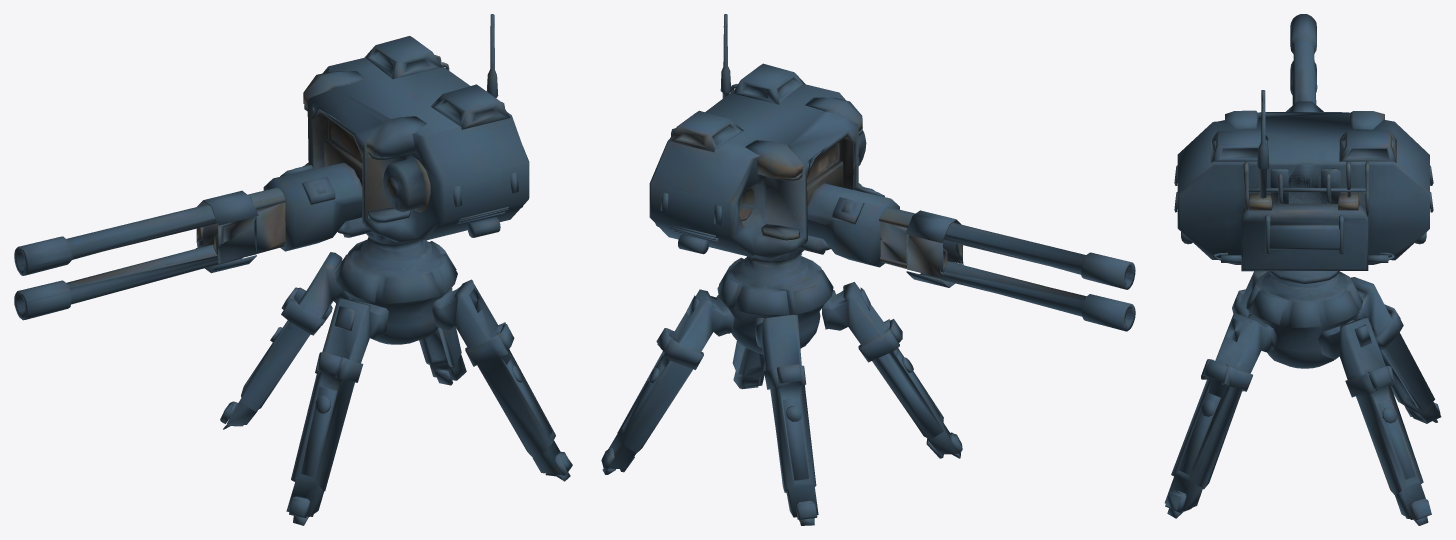
Rendered from t_pulse_1.glb.
3 views of the same model, side by side, from view 1: azimuth 30°, elevation 25°; view 2: azimuth 150°, elevation 25°; view 3: azimuth 270°, elevation 25° (orthographic). The views are drawn at different scales.
Size of the model in its own units: 0.9541 by 0.791 by 0.48.
1 material, 1 textured.
